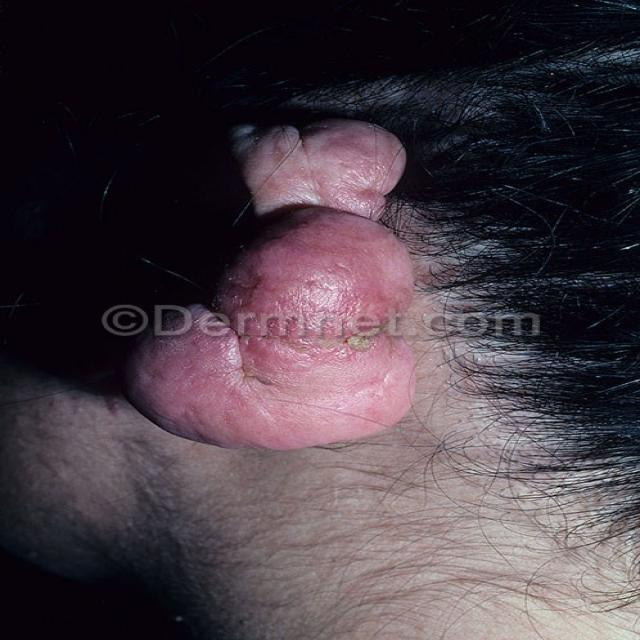Eczema: (140, 223, 410, 449)
